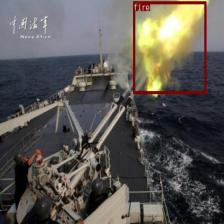fire: (132, 0, 206, 94)
